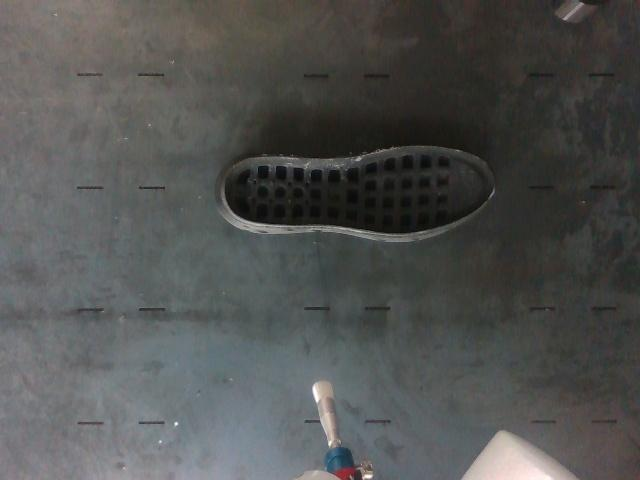shoes: (224, 147, 495, 234)
